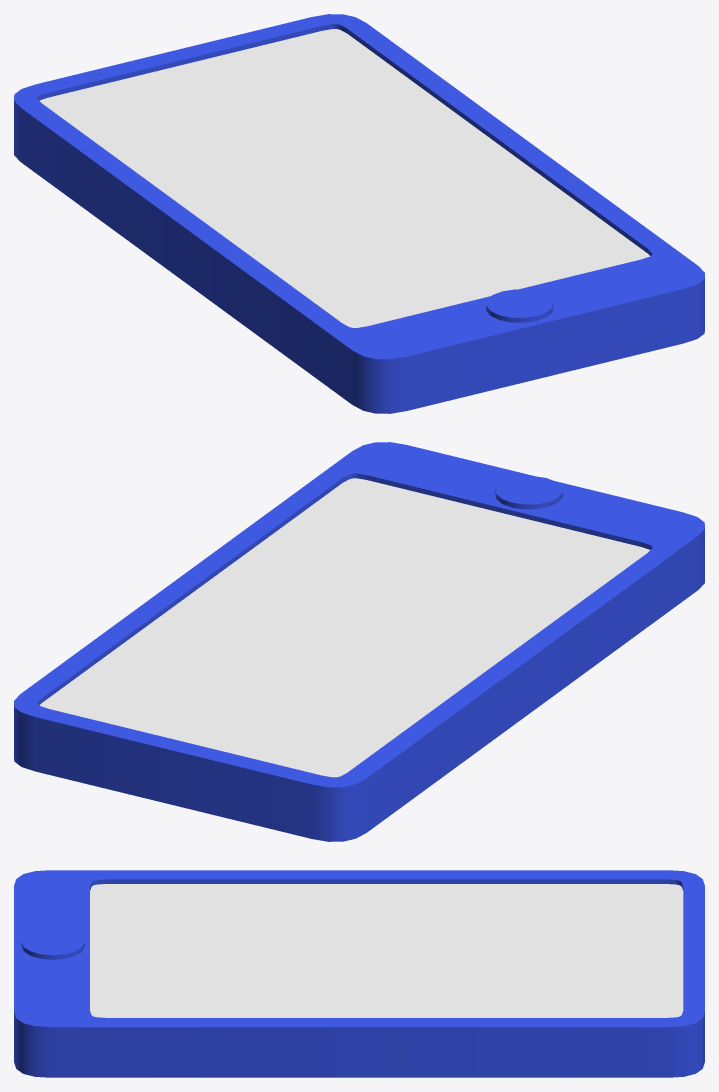
The model's file is PHONE.FBX.
3 renders of one model, top to bottom at view 1: azimuth 30°, elevation 25°; view 2: azimuth 150°, elevation 25°; view 3: azimuth 270°, elevation 25°, orthographic. The views are drawn at different scales.
Parts seen in each view (by area): view 1: Cylinder001; view 2: Cylinder001; view 3: Cylinder001.
Part boxes in pixels (x1,y1,x2,y2): Cylinder001: (14,14,704,413); Cylinder001: (14,442,704,841); Cylinder001: (14,870,704,1077).
Bounding box in the file's own units: 10 × 1.64 × 18.6.
